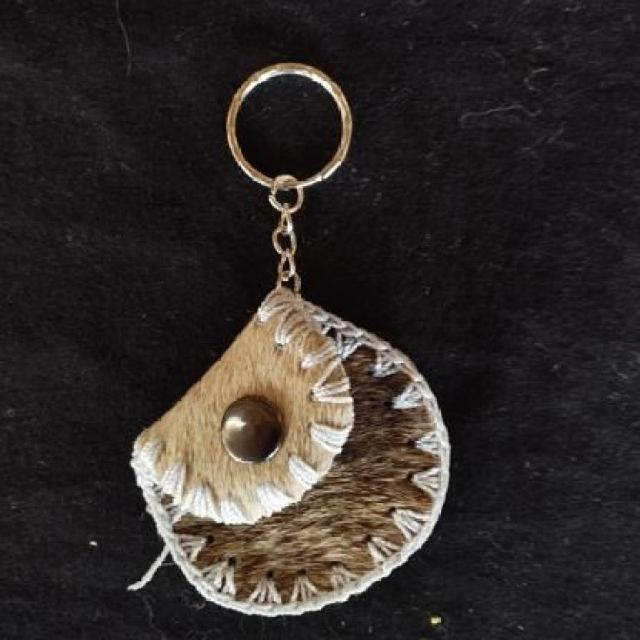Llavero: (127, 284, 451, 618)
